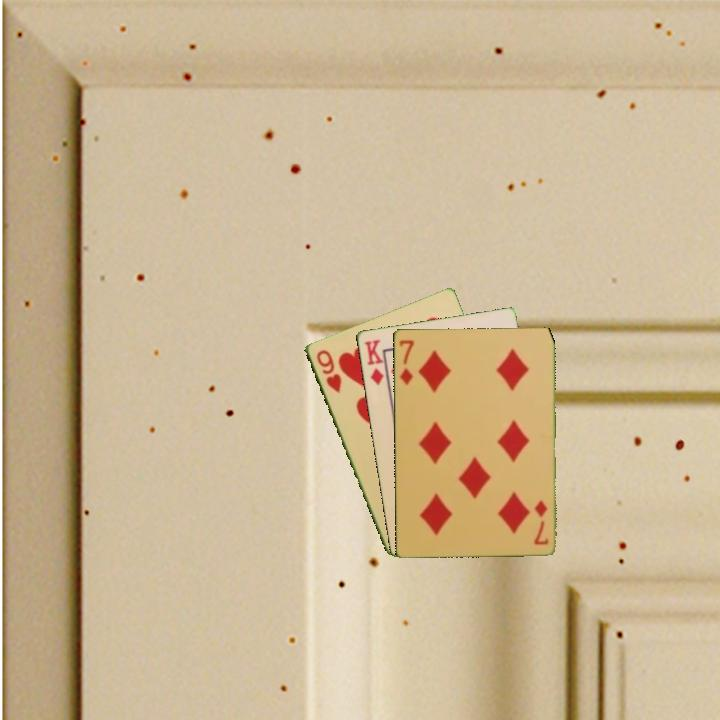7d: (395, 336, 416, 388), (530, 497, 551, 547)
9h: (312, 346, 344, 396)
Kd: (360, 336, 386, 388)
